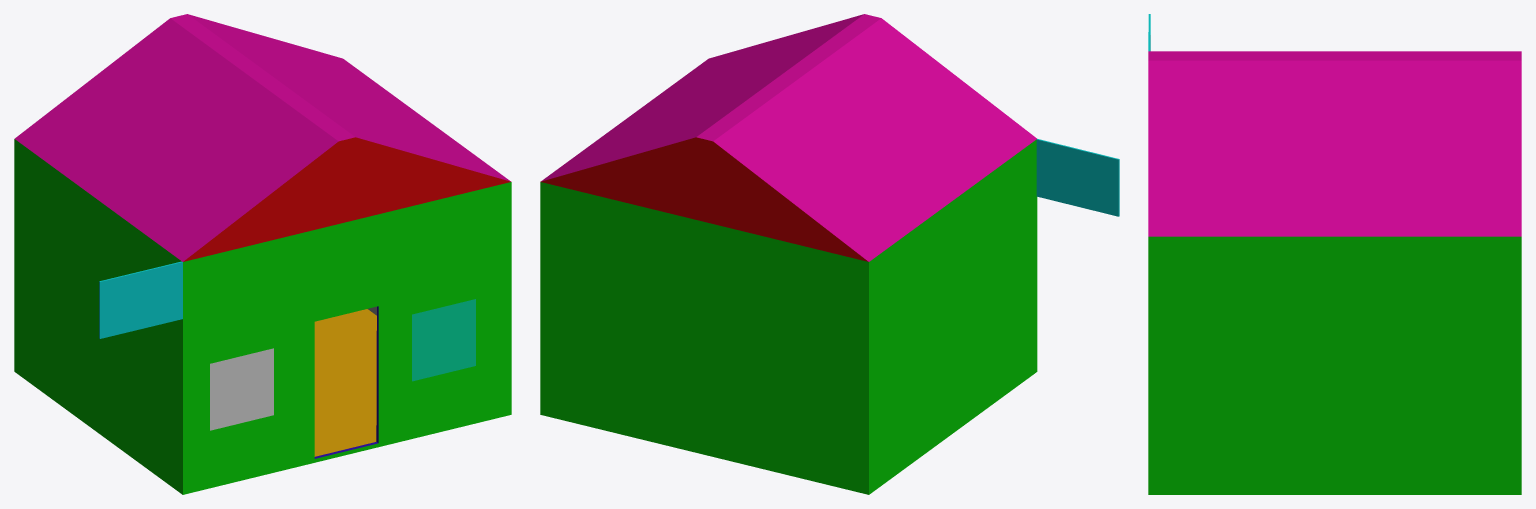
File: building1.obj
3 renders of one model, left to right at view 1: azimuth 30°, elevation 25°; view 2: azimuth 150°, elevation 25°; view 3: azimuth 270°, elevation 25°, orthographic. The views are drawn at different scales.
Parts seen in each view (by area): view 1: Cube; view 2: Cube; view 3: Cube.
Part boxes in pixels (box(x1,y1,x2,y2)): Cube: box(14, 14, 511, 494); Cube: box(540, 14, 1119, 494); Cube: box(1148, 14, 1521, 494).
Size of the model in its own units: 2.51 by 1.84 by 1.78.
